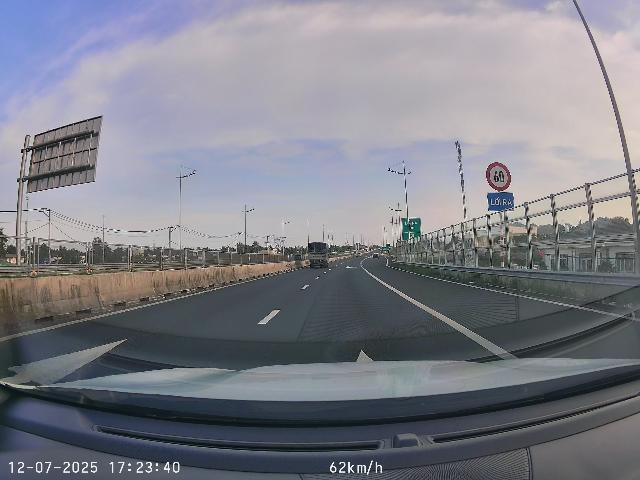127-toc-do-toi-da-60: (486, 162, 511, 191)
